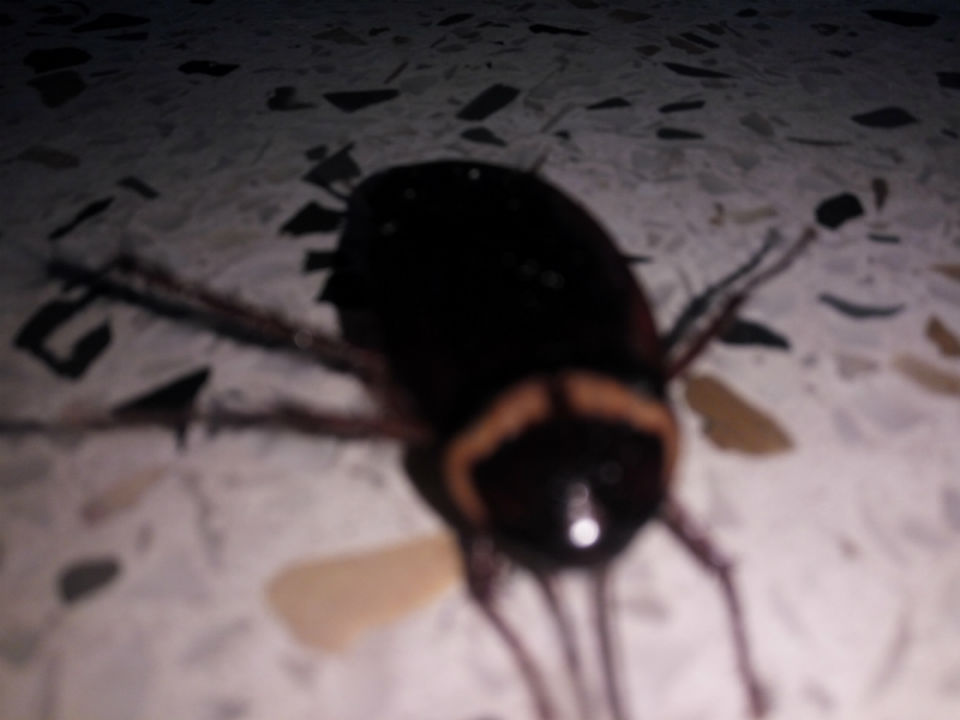cockroach: (8, 94, 874, 720)
